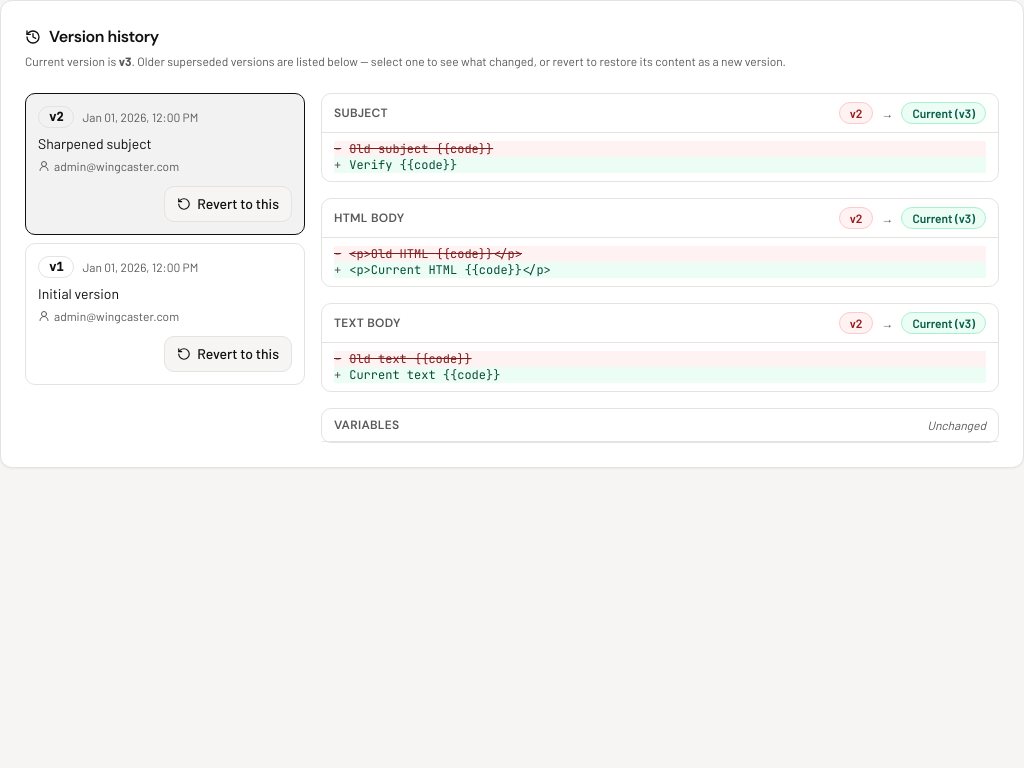
revert flow › opens a confirm dialog naming the version and the resulting new version
Click the button with aria-label "revert to version 2".
click(228, 204)  # box [164,186,292,222]
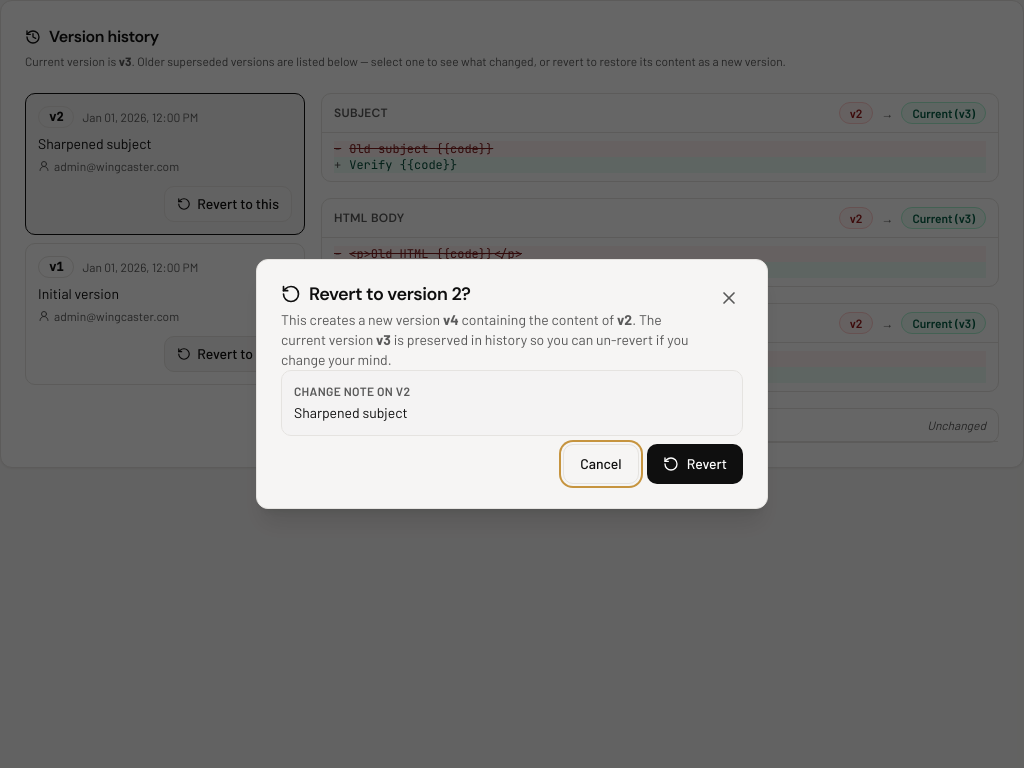
Result: the heading "Revert to version 2?" is shown at [281,282,470,306]
Result: the text "v4" is shown at [443,311,459,328]
Result: the text "Sharpened subject" is shown at [294,404,408,421]
